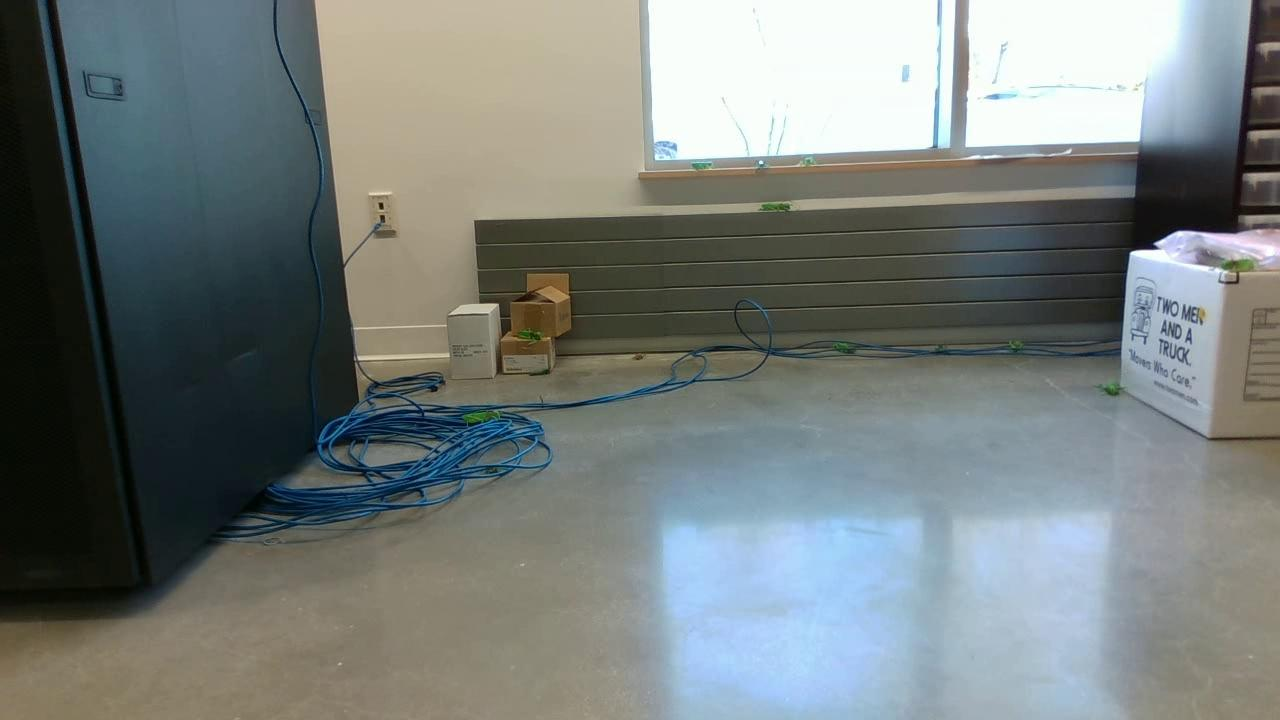grasshopper: (457, 408, 506, 427), (1212, 255, 1258, 275), (1091, 378, 1126, 395), (512, 327, 546, 342), (823, 338, 856, 352), (757, 201, 795, 213), (1003, 334, 1024, 352)
